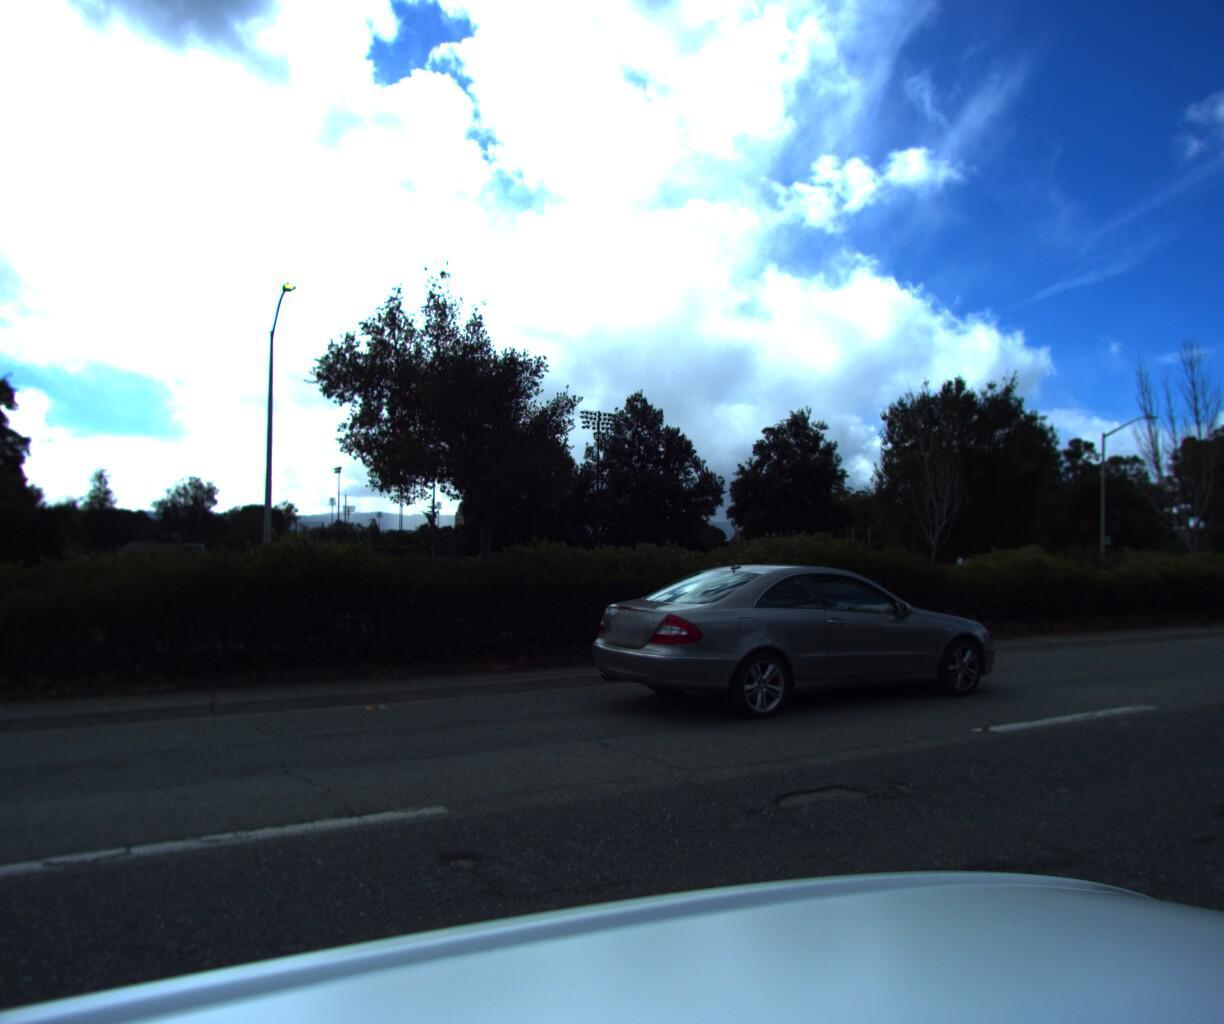car: (564, 561, 998, 737)
